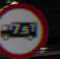Heavy Vehicles: (1, 3, 51, 56)
